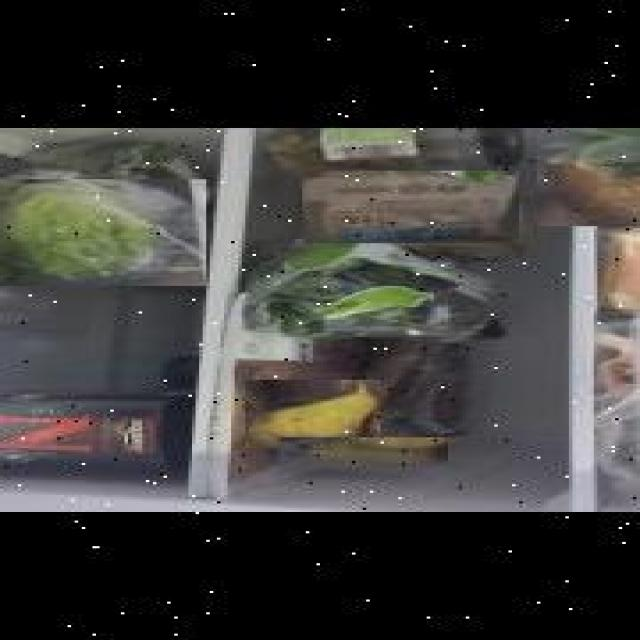bread: (298, 171, 516, 243)
cheese: (583, 228, 640, 312)
pear: (242, 380, 377, 448), (274, 438, 444, 468)
pineapple: (533, 128, 640, 226)
salad: (0, 179, 199, 286)
